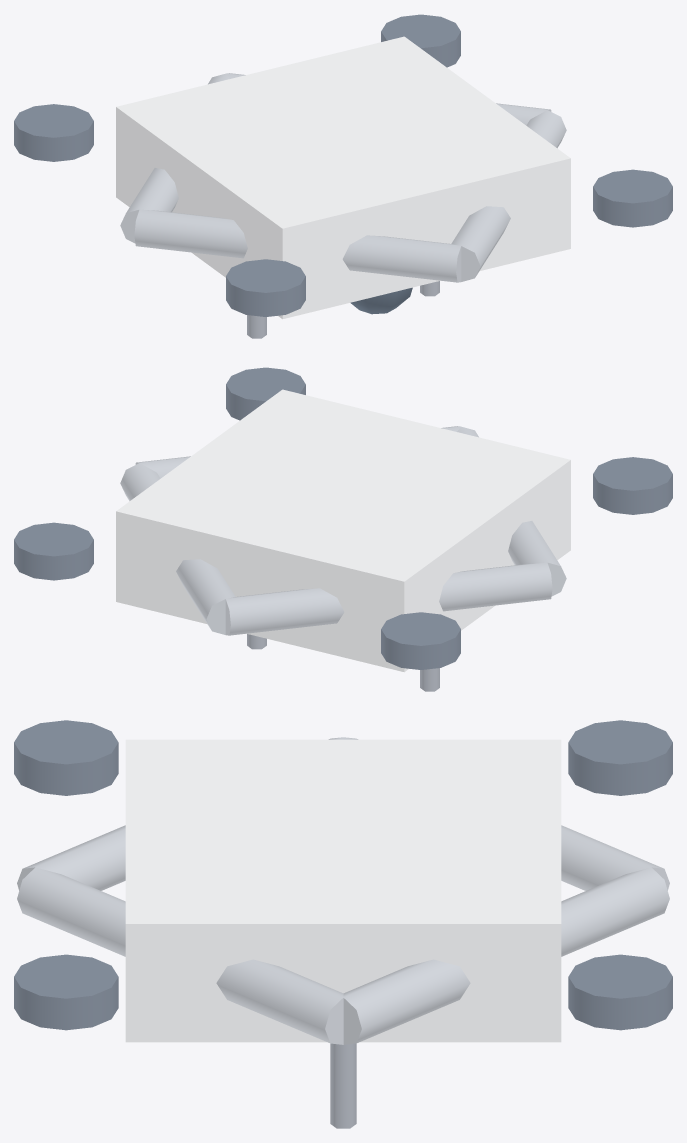
Rendered from quadcopter_phantom.glb.
3 renders of one model, top to bottom at view 1: azimuth 30°, elevation 25°; view 2: azimuth 150°, elevation 25°; view 3: azimuth 270°, elevation 25°, orthographic. The views are drawn at different scales.
Size of the model in its own units: 0.7564 by 0.3 by 0.7564.
